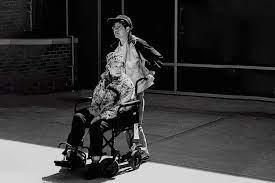push_wheelchair: (104, 15, 163, 161)
wheelchair: (54, 52, 149, 179)
